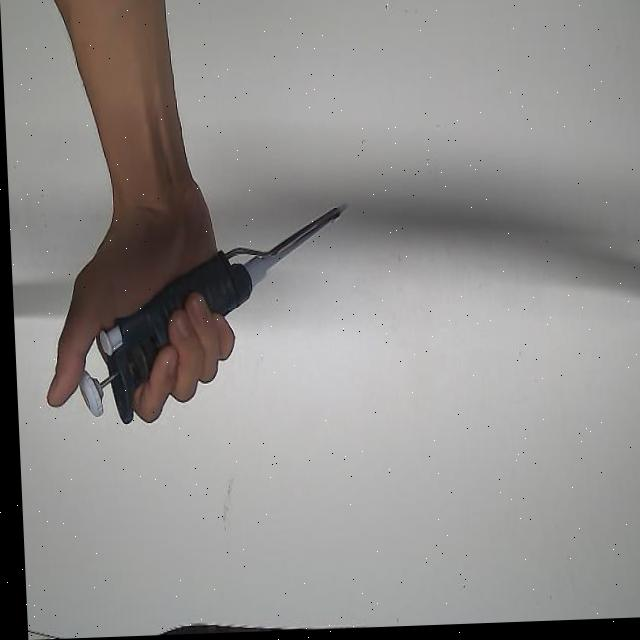Single Channel Pipettor: (69, 198, 359, 428)
